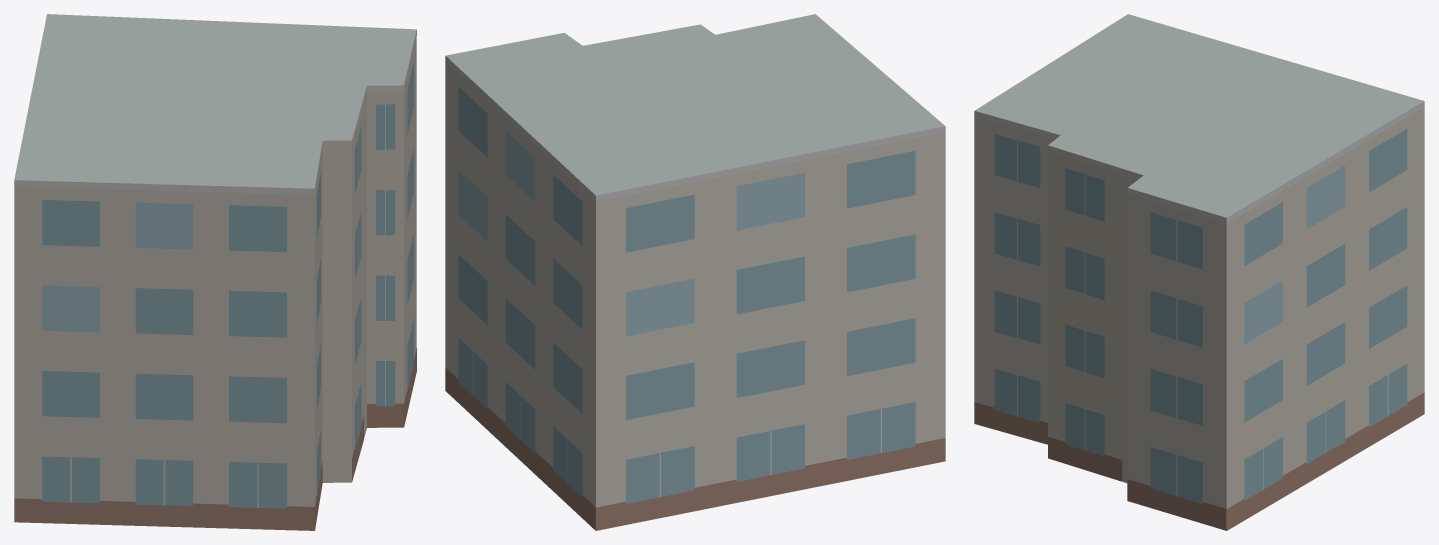
File: survey-upis-32836631.glb
3 views of the same model, side by side, from view 1: azimuth 30°, elevation 25°; view 2: azimuth 150°, elevation 25°; view 3: azimuth 270°, elevation 25° (orthographic). The views are drawn at different scales.
Parts seen in each view (by area): view 1: survey-upis-32836631.tmp; view 2: survey-upis-32836631.tmp; view 3: survey-upis-32836631.tmp.
Boxes of the visible parts, x1,y1,x2,y2 form: survey-upis-32836631.tmp: (14, 14, 416, 530); survey-upis-32836631.tmp: (445, 14, 945, 530); survey-upis-32836631.tmp: (974, 14, 1424, 530).
Size of the model in its own units: 18.02 by 12.9 by 16.82.
